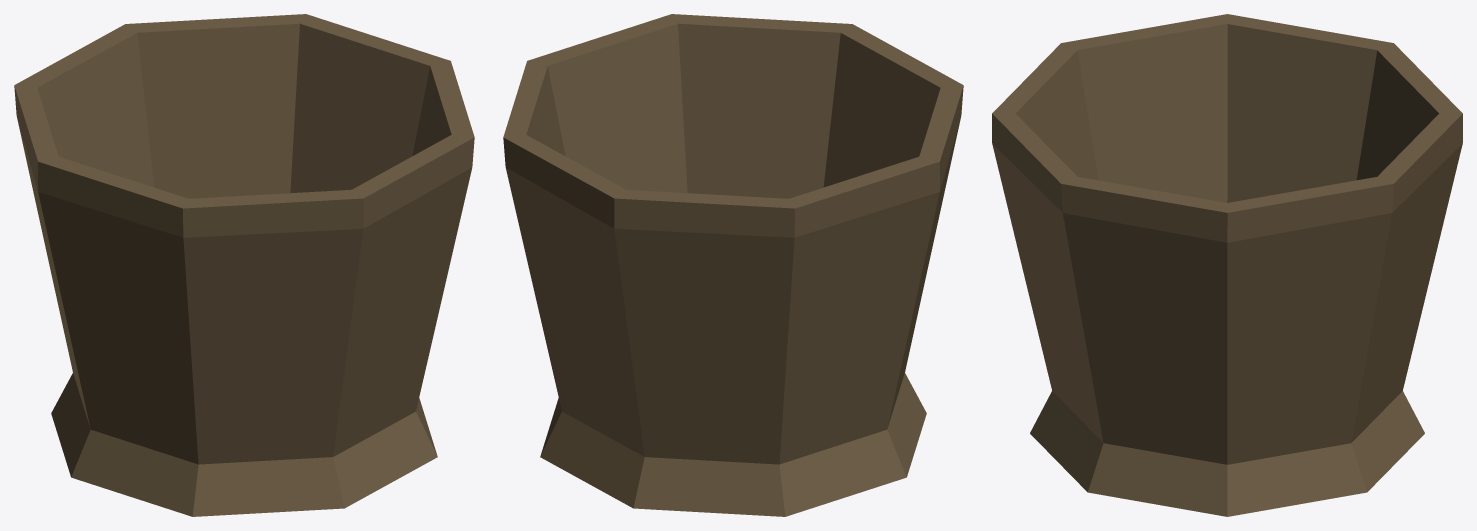
Rendered from greek_bucket.fbx.
3 views of the same model, side by side, from view 1: azimuth 30°, elevation 25°; view 2: azimuth 150°, elevation 25°; view 3: azimuth 270°, elevation 25° (orthographic).
Parts seen in each view (by area): view 1: Cylinder.007; view 2: Cylinder.007; view 3: Cylinder.007.
Part boxes in pixels (bbox=[...]): Cylinder.007: bbox=[14, 14, 474, 516]; Cylinder.007: bbox=[503, 14, 963, 516]; Cylinder.007: bbox=[992, 14, 1462, 516].
Bounding box in the file's own units: 50 × 37.5 × 50.
